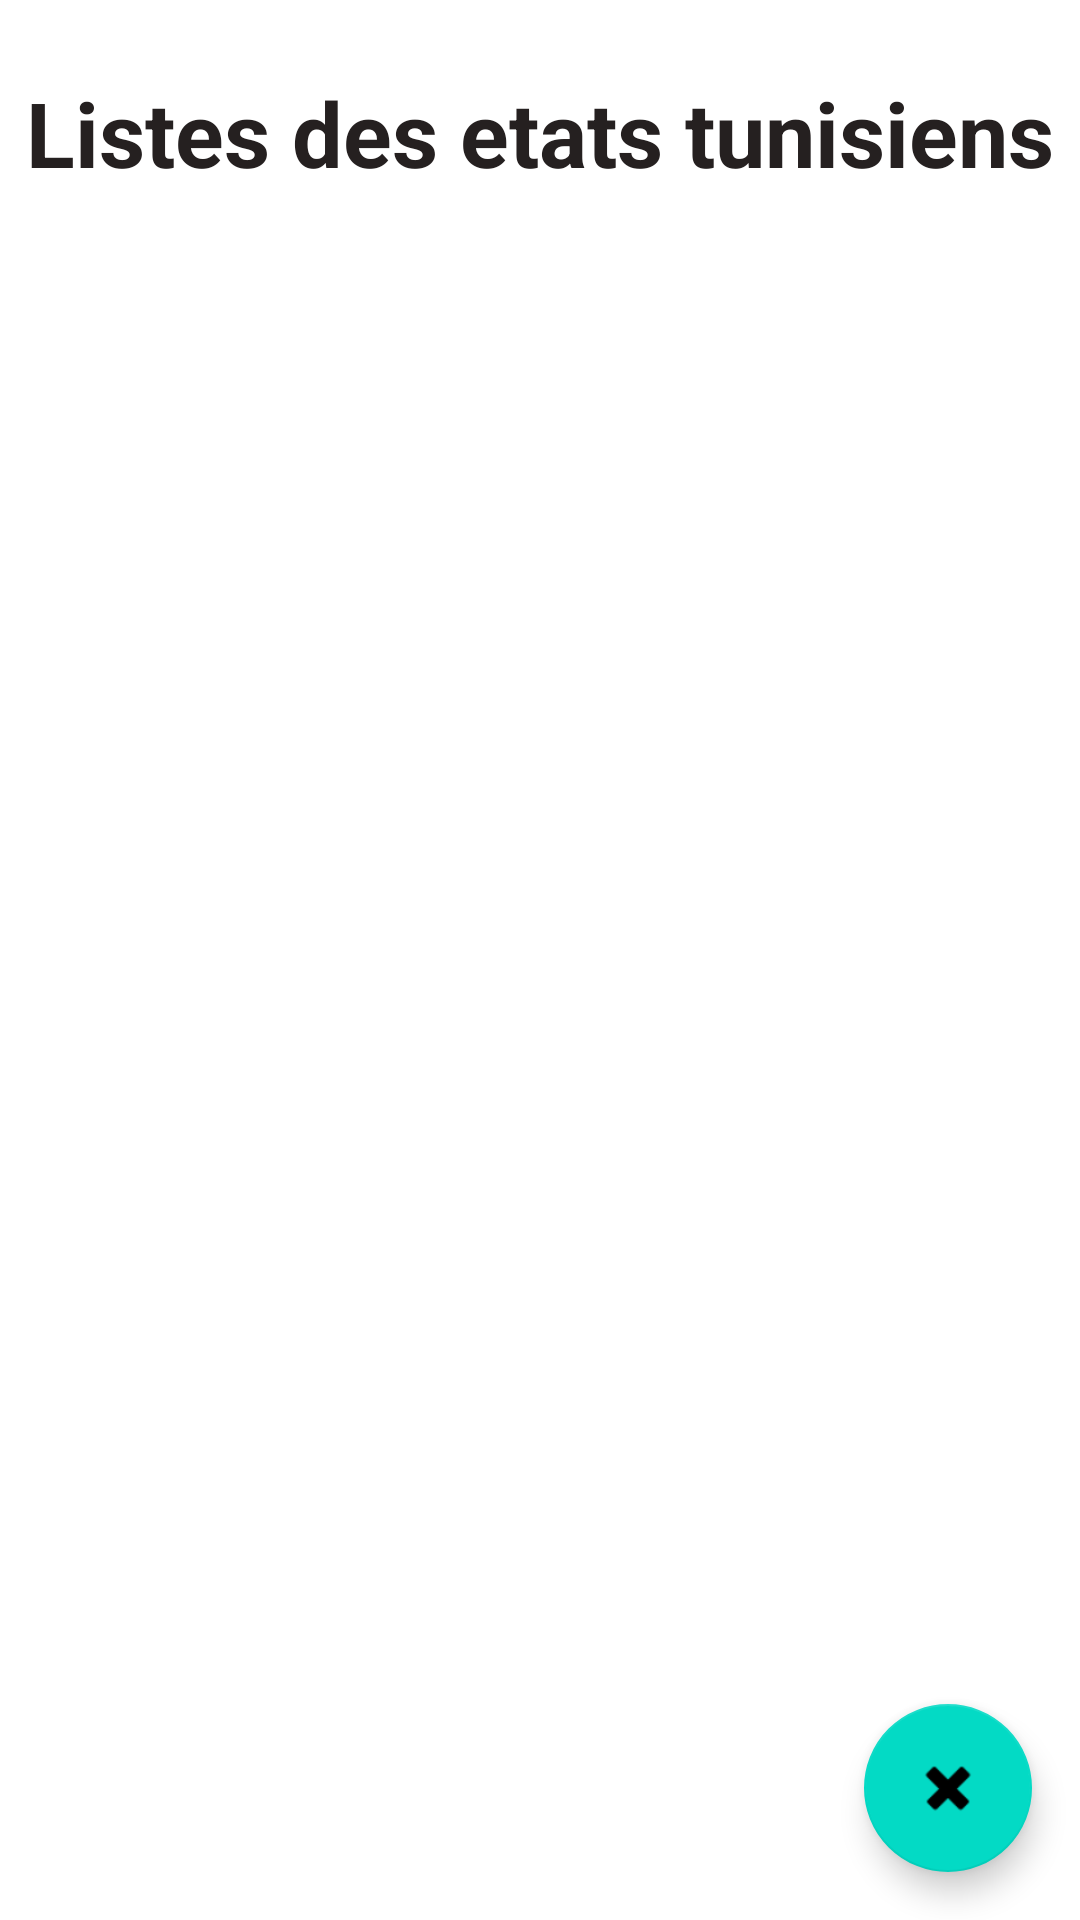

Where icons sit on this 1080w x 1920h app screen, as (x1, y1, x2, y2):
delete: (864, 1704, 1032, 1872)
